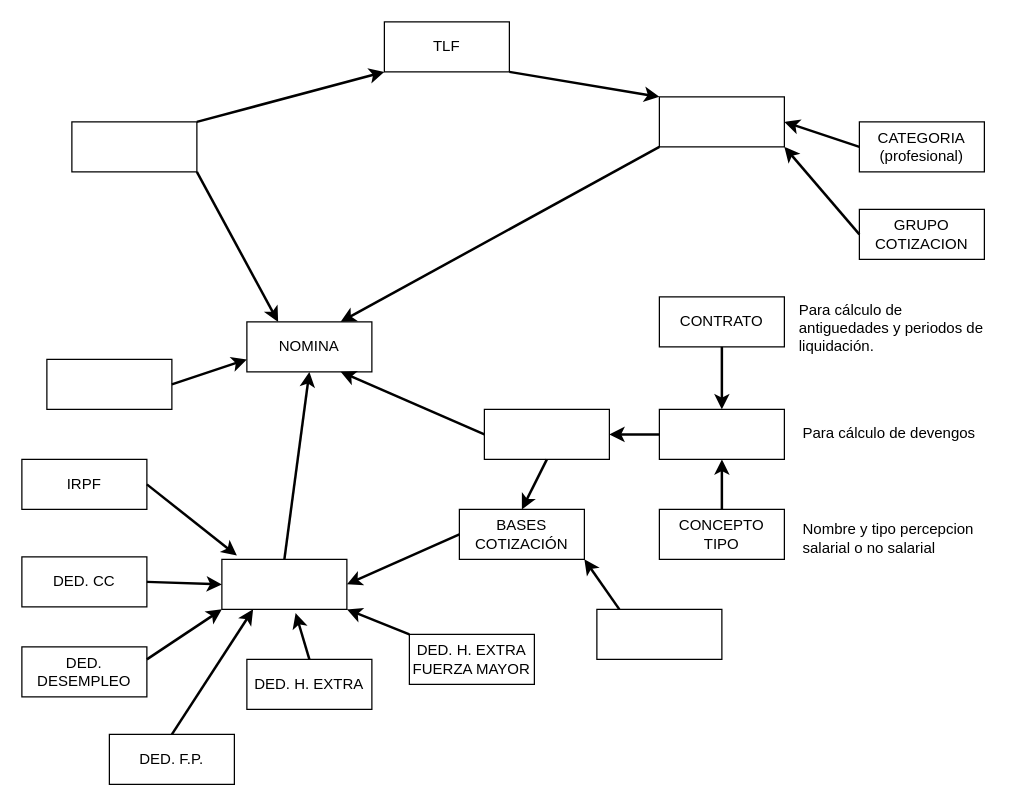
Image size: 1023x806. Some labels were removed from this diagram. The box of each missing label's shape, as (x1, y1, x2, y2) in pixels:
BASES COTIZ. TIPOS: (596, 608, 722, 659)
CONCEPTO SALARIO: (658, 408, 784, 459)
DEDUCCIONES: (221, 558, 347, 609)
EMPRESA: (71, 121, 197, 172)
PERCEPCIONES: (483, 408, 609, 459)
PERIODO LIQUIDACION: (46, 358, 172, 409)
TRABAJADOR: (658, 96, 784, 147)
